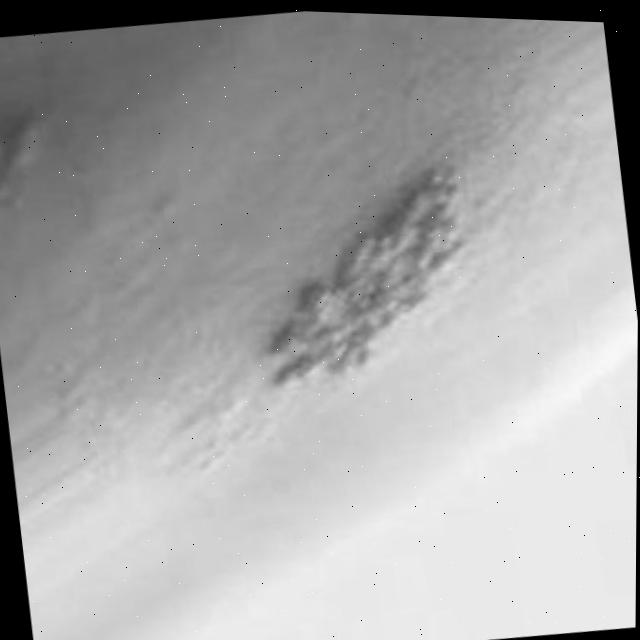Shingles: (239, 156, 497, 407), (0, 120, 73, 249)
